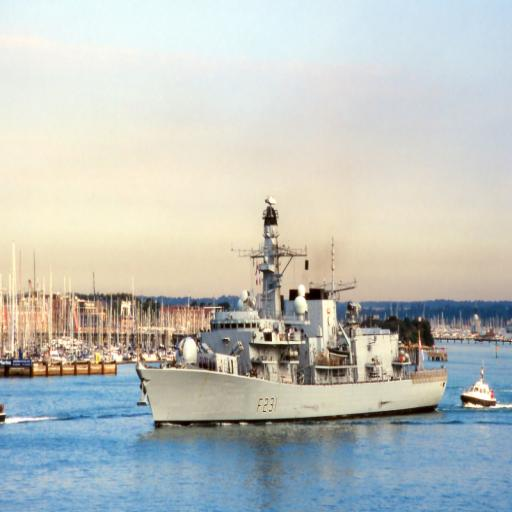Fragata: (135, 200, 453, 431)
